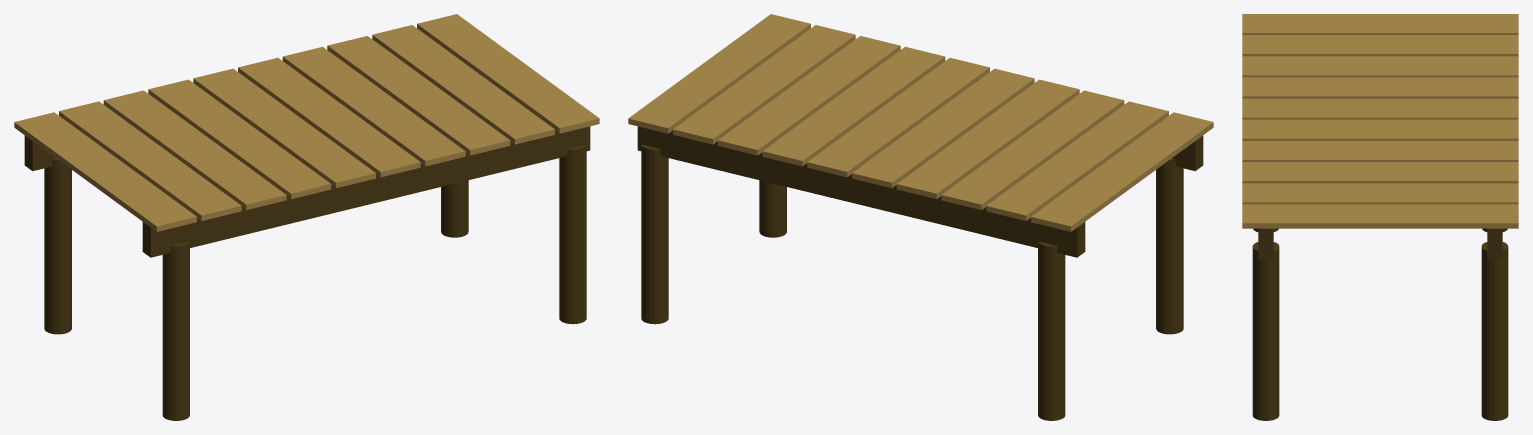
The model's file is Dock_Straight.fbx.
3 renders of one model, left to right at view 1: azimuth 30°, elevation 25°; view 2: azimuth 150°, elevation 25°; view 3: azimuth 270°, elevation 25°, orthographic. The views are drawn at different scales.
Visible parts, largest first — view 1: pCube14, pCube13, pCube6, pCube10, pCube7, pCube11, pCube5, pCube12, pCube4, pCube8, pCube9, pCylinder1 (+3 smaller); view 2: pCube14, pCube13, pCube6, pCube10, pCube7, pCube11, pCube4, pCube5, pCube12, pCube9, pCube8, pCylinder2 (+3 smaller); view 3: pCube4, pCube5, pCube6, pCube8, pCube9, pCube10, pCube11, pCube12, pCube7, pCube13, pCylinder1, pCylinder2 (+1 smaller).
Part boxes in pixels (left/top/right/bottom): pCube14: left=24, top=35, right=590, bottom=257; pCube13: left=14, top=112, right=196, bottom=231; pCube6: left=327, top=36, right=510, bottom=155; pCube10: left=148, top=79, right=331, bottom=199; pCube7: left=282, top=46, right=465, bottom=166; pCube11: left=103, top=90, right=286, bottom=209; pCube5: left=372, top=25, right=554, bottom=144; pCube12: left=59, top=101, right=241, bottom=220; pCube4: left=417, top=14, right=599, bottom=133; pCube8: left=238, top=57, right=420, bottom=177; pCube9: left=193, top=68, right=375, bottom=188; pCylinder1: left=559, top=144, right=586, bottom=324; pCube14: left=637, top=37, right=1203, bottom=257; pCube13: left=1031, top=112, right=1213, bottom=231; pCube6: left=717, top=36, right=900, bottom=155; pCube10: left=896, top=79, right=1079, bottom=199; pCube7: left=762, top=46, right=945, bottom=166; pCube11: left=941, top=90, right=1124, bottom=209; pCube4: left=628, top=14, right=810, bottom=133; pCube5: left=673, top=25, right=855, bottom=144; pCube12: left=986, top=101, right=1168, bottom=220; pCube9: left=852, top=68, right=1034, bottom=188; pCube8: left=807, top=57, right=989, bottom=177; pCylinder2: left=641, top=144, right=668, bottom=324; pCube4: left=1242, top=204, right=1518, bottom=228; pCube5: left=1242, top=183, right=1518, bottom=204; pCube6: left=1242, top=162, right=1518, bottom=183; pCube8: left=1242, top=119, right=1518, bottom=140; pCube9: left=1242, top=98, right=1518, bottom=119; pCube10: left=1242, top=77, right=1518, bottom=98; pCube11: left=1242, top=56, right=1518, bottom=77; pCube12: left=1242, top=35, right=1518, bottom=56; pCube7: left=1242, top=141, right=1518, bottom=161; pCube13: left=1242, top=14, right=1518, bottom=34; pCylinder1: left=1252, top=242, right=1279, bottom=420; pCylinder2: left=1481, top=242, right=1508, bottom=420.
Size of the model in its own units: 13.85 by 6.14 by 7.74.
